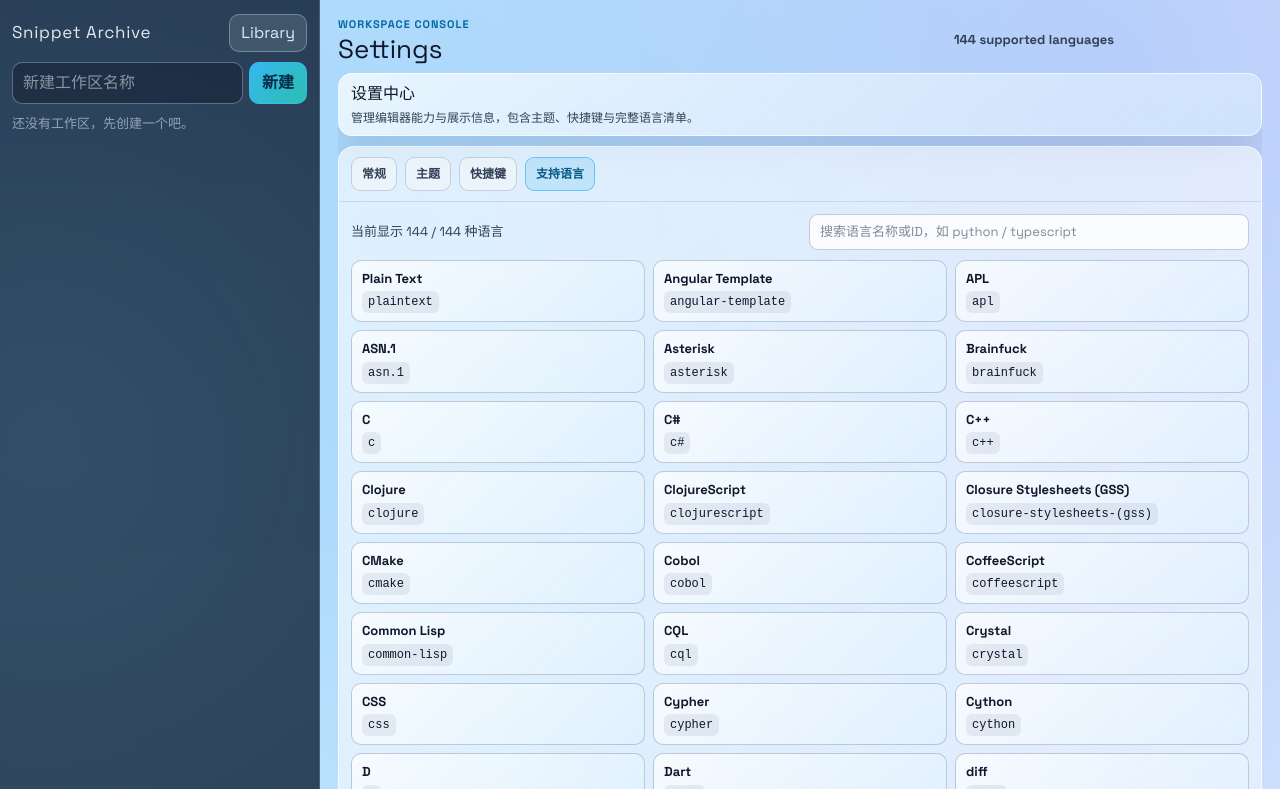
Test: Settings page › shows supported languages tab and can switch tabs
Type "python" into the search field with test id "settings-language-search" at (1029, 232), box [809,214,1249,250]
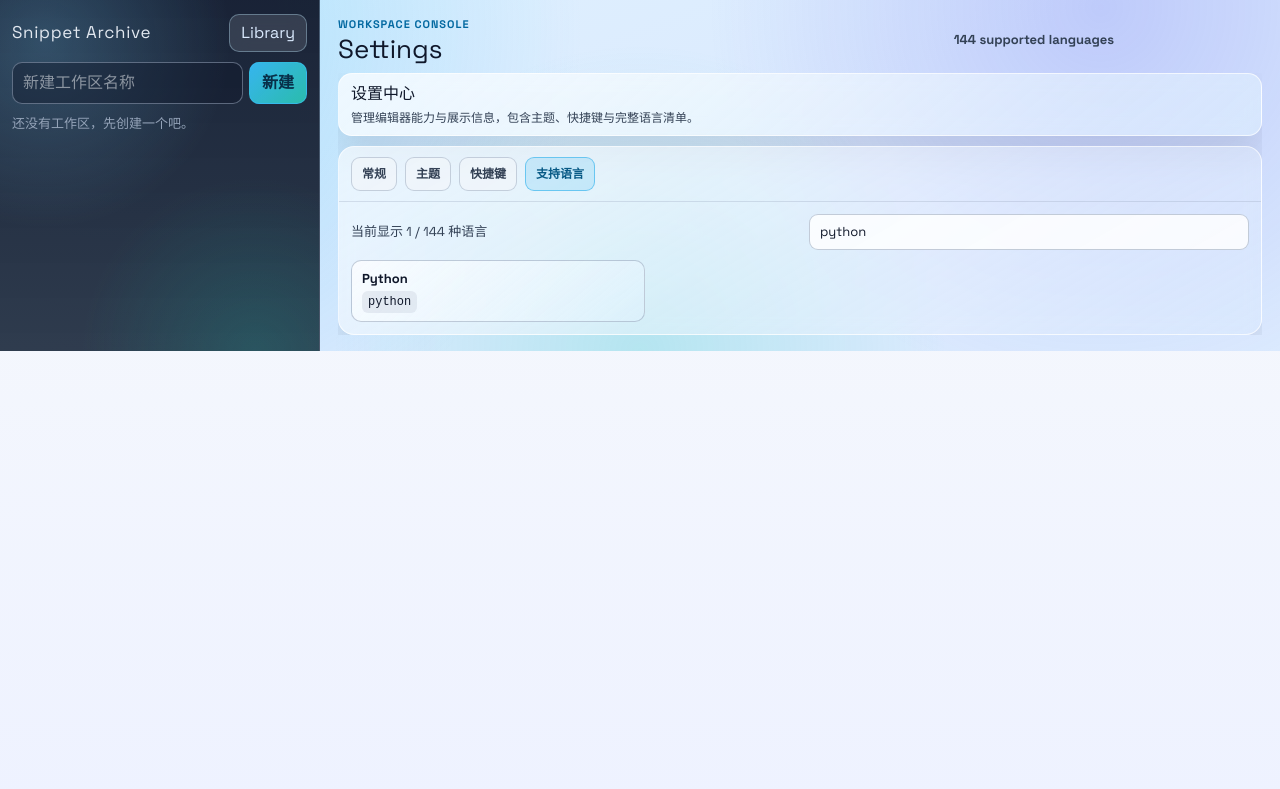
Expected: the text "Python" is shown, [362,270,408,287]
Click the button with test id "settings-tab-general" at (374, 174), box [351,158,397,192]
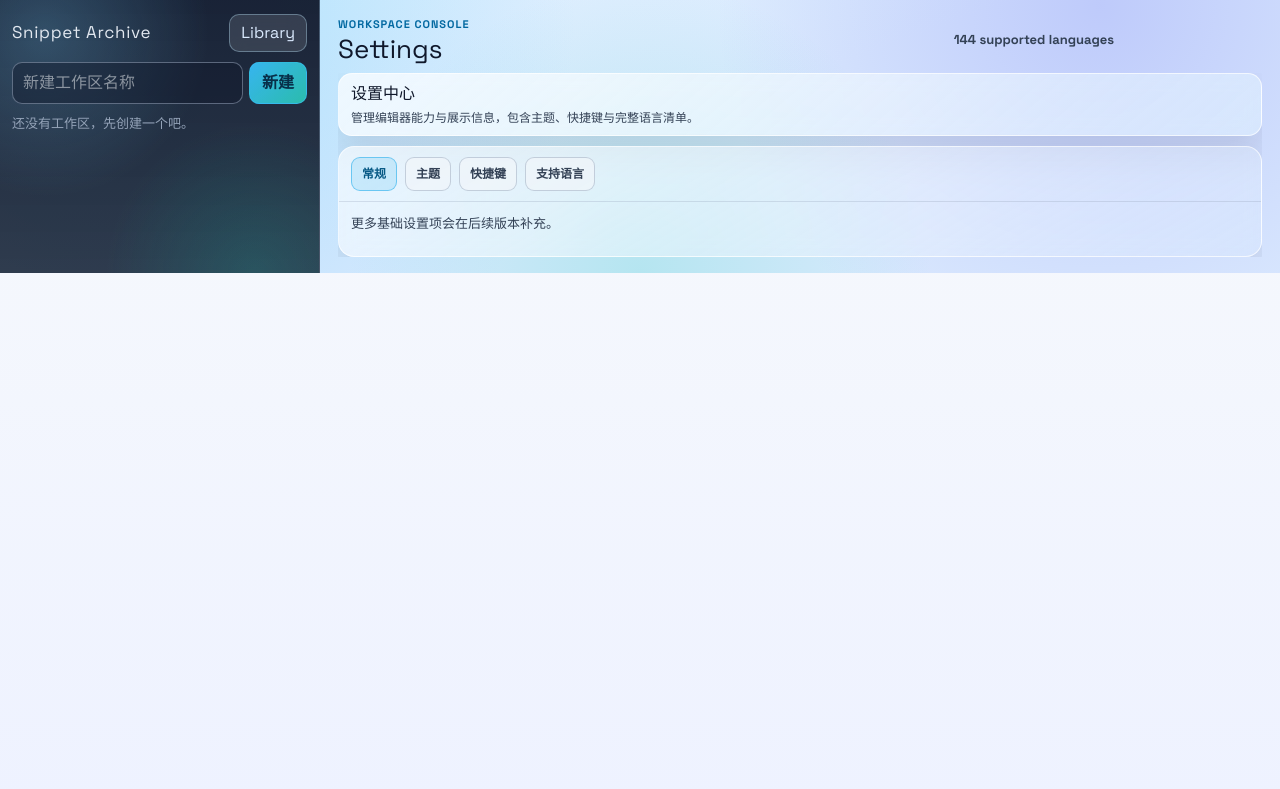
Now the element with test id "settings-panel-general" is shown, box [351,216,559,232]
Click the button with test id "settings-tab-themes" at (428, 174), box [405,158,451,192]
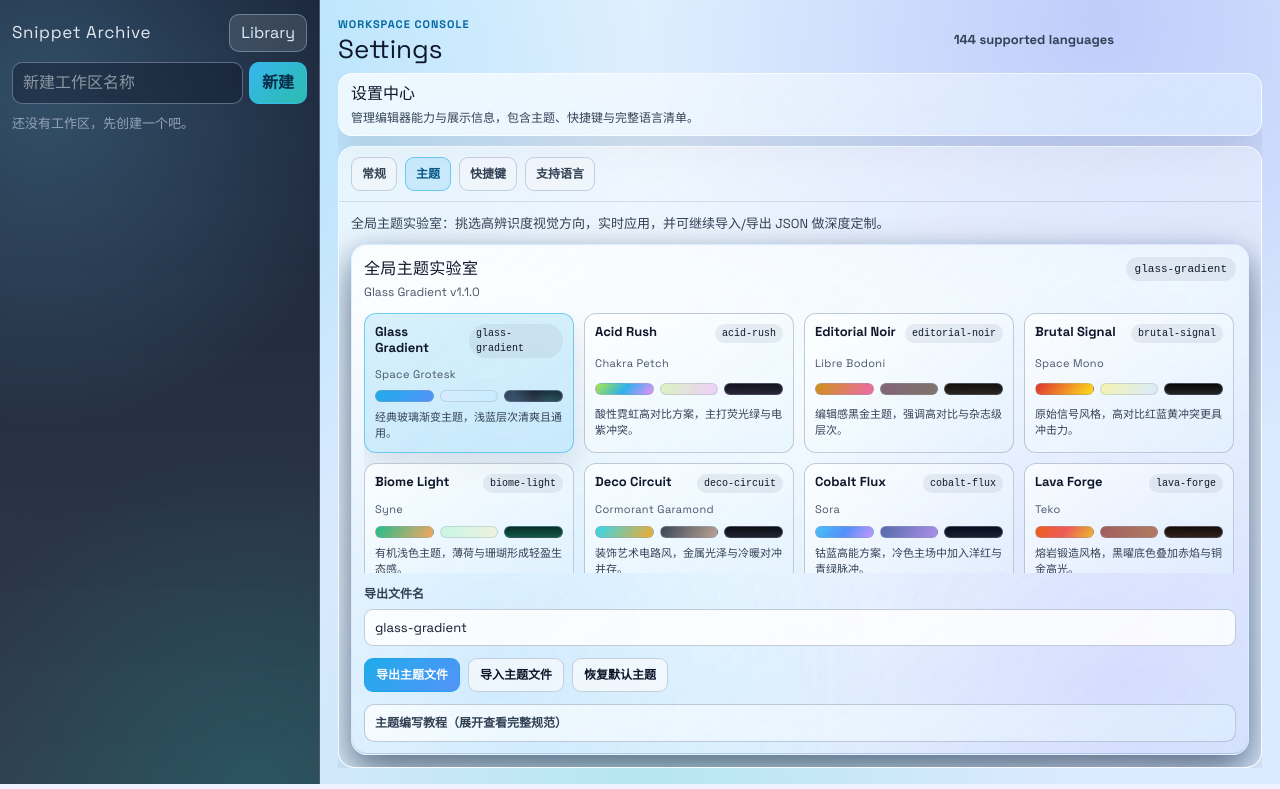
Now the element with test id "settings-panel-themes" is shown, box [339,202,1261,768]
Click the button with test id "settings-tab-shortcuts" at (488, 174), box [459,158,517,192]
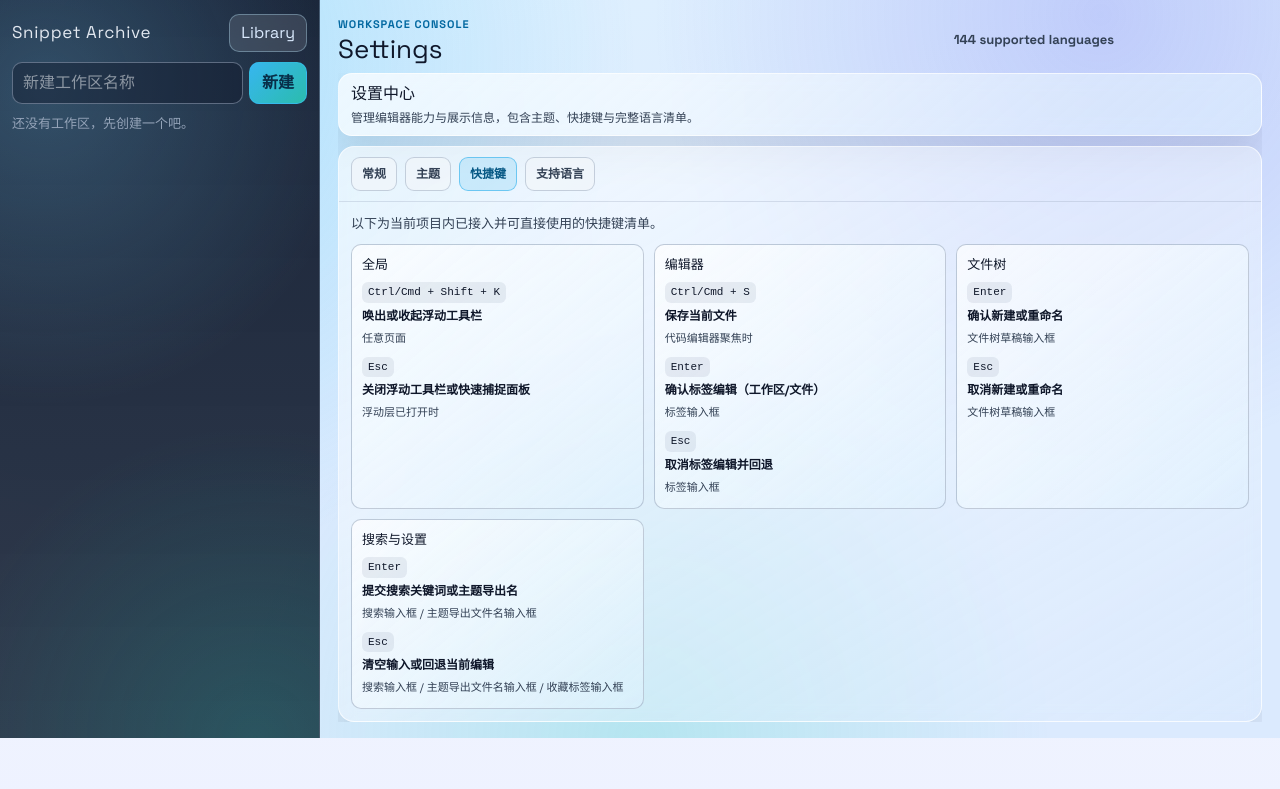
Now the element with test id "settings-panel-shortcuts" is shown, box [339,202,1261,722]
Now the element with test id "settings-panel-shortcuts" shows "Ctrl/Cmd + Shift + K", box [368,286,500,298]
Now the element with test id "settings-panel-shortcuts" shows "Ctrl/Cmd + S", box [671,286,750,298]
Click the button with test id "settings-tab-languages" at (560, 174), box [525,158,595,192]
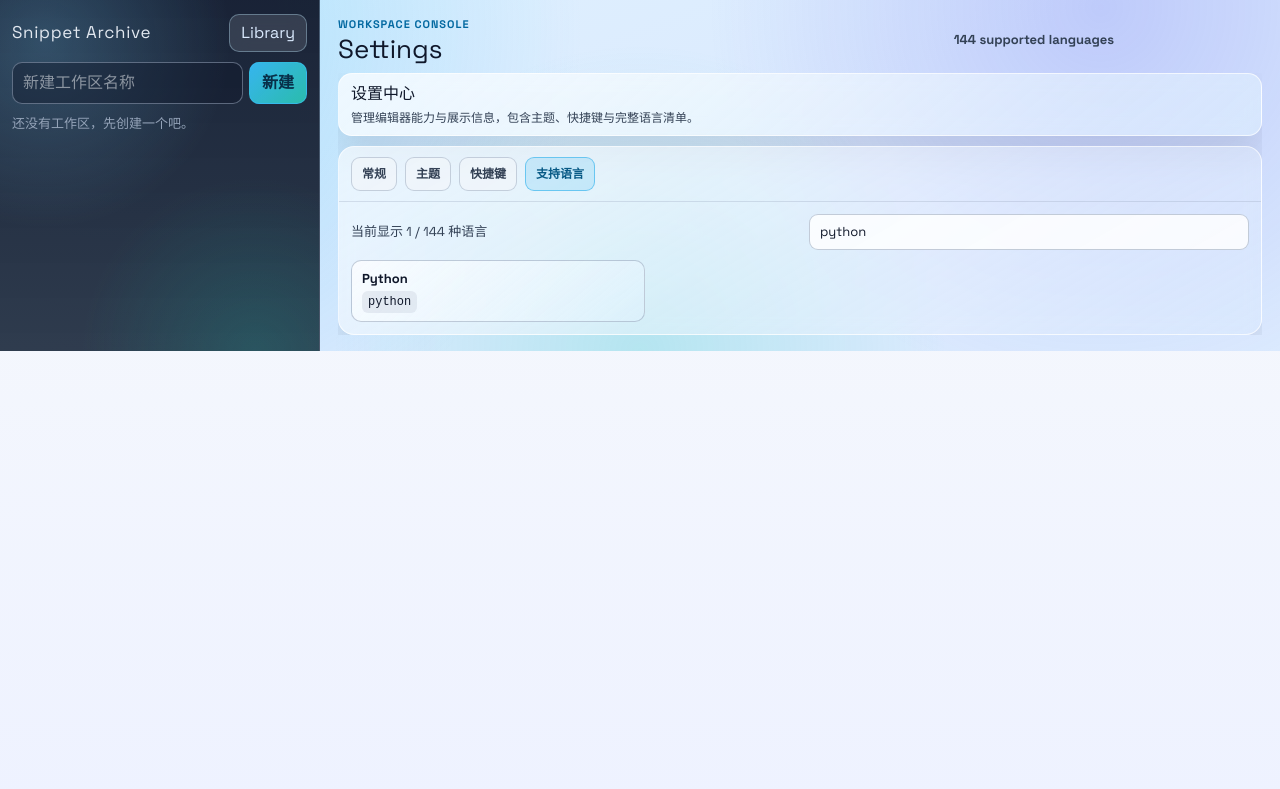
Now the element with test id "settings-panel-languages" is shown, box [339,202,1261,334]
